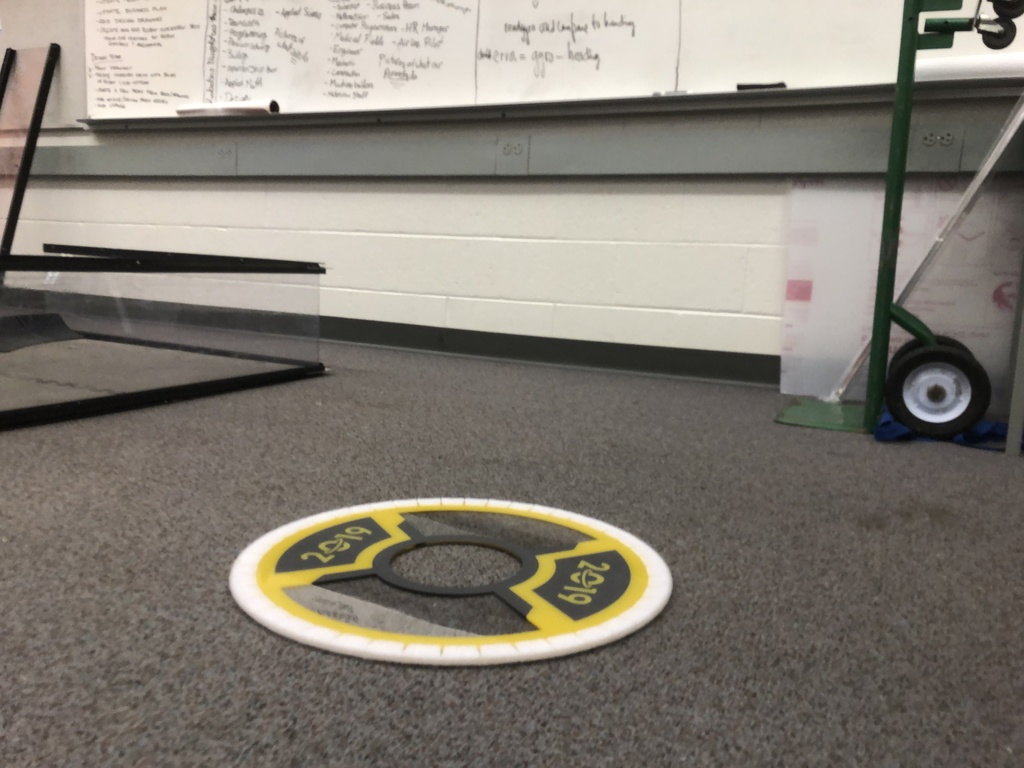hatch_panel: (215, 483, 679, 681)
